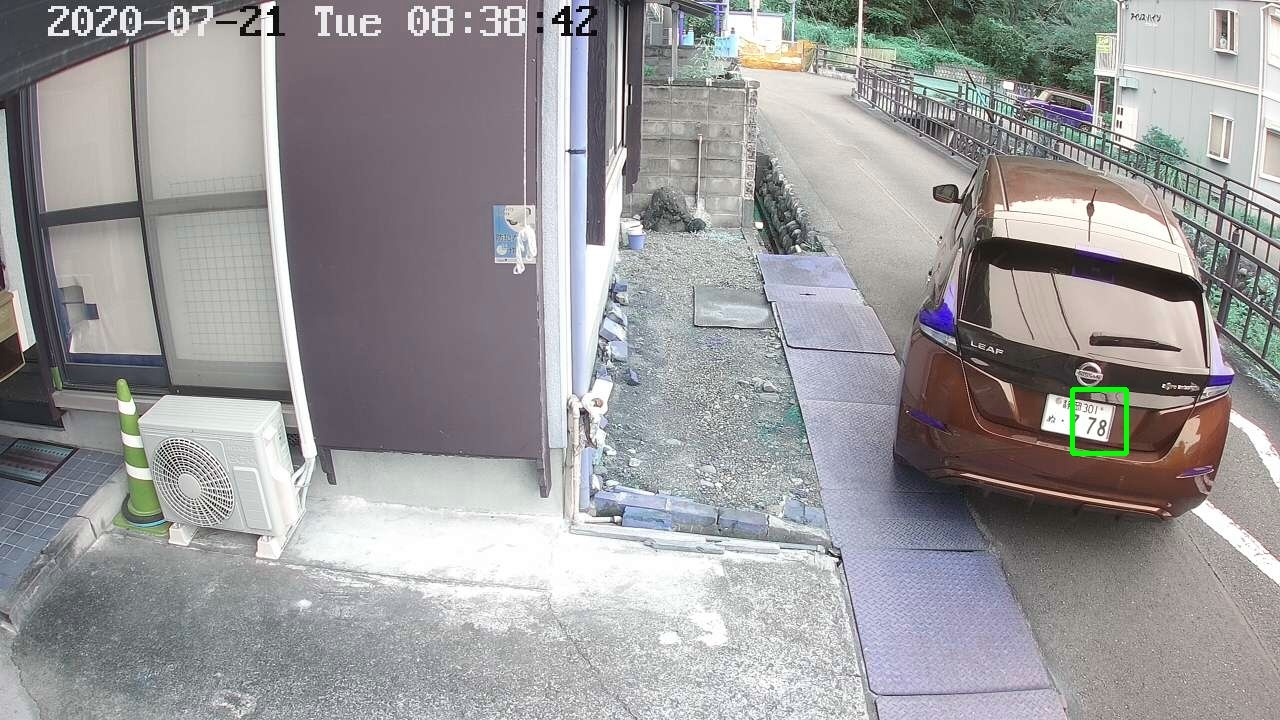number_plate: (1043, 388, 1120, 447)
